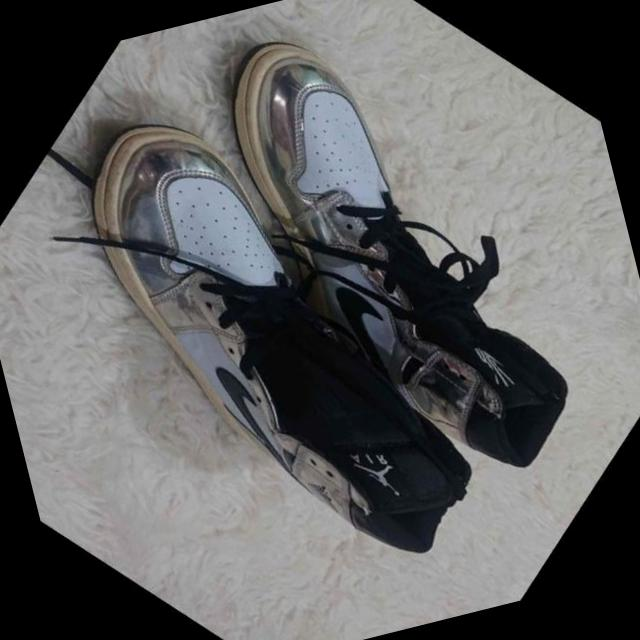nike_fake_jordan: (0, 15, 592, 640), (89, 0, 640, 559)
